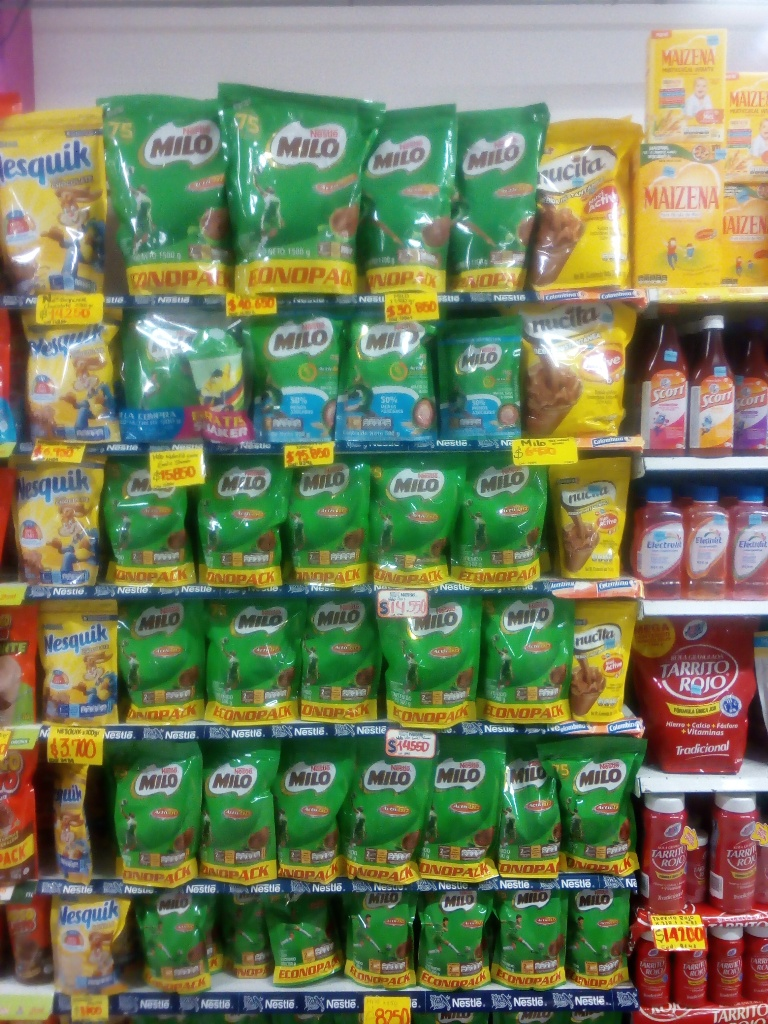COL0170203DYP50000: (117, 312, 199, 437)
COL0170205DYP50000: (246, 313, 340, 442)
COL0170303DYP20000: (34, 603, 122, 726)
COL0170306DYP20000: (42, 895, 134, 997)
